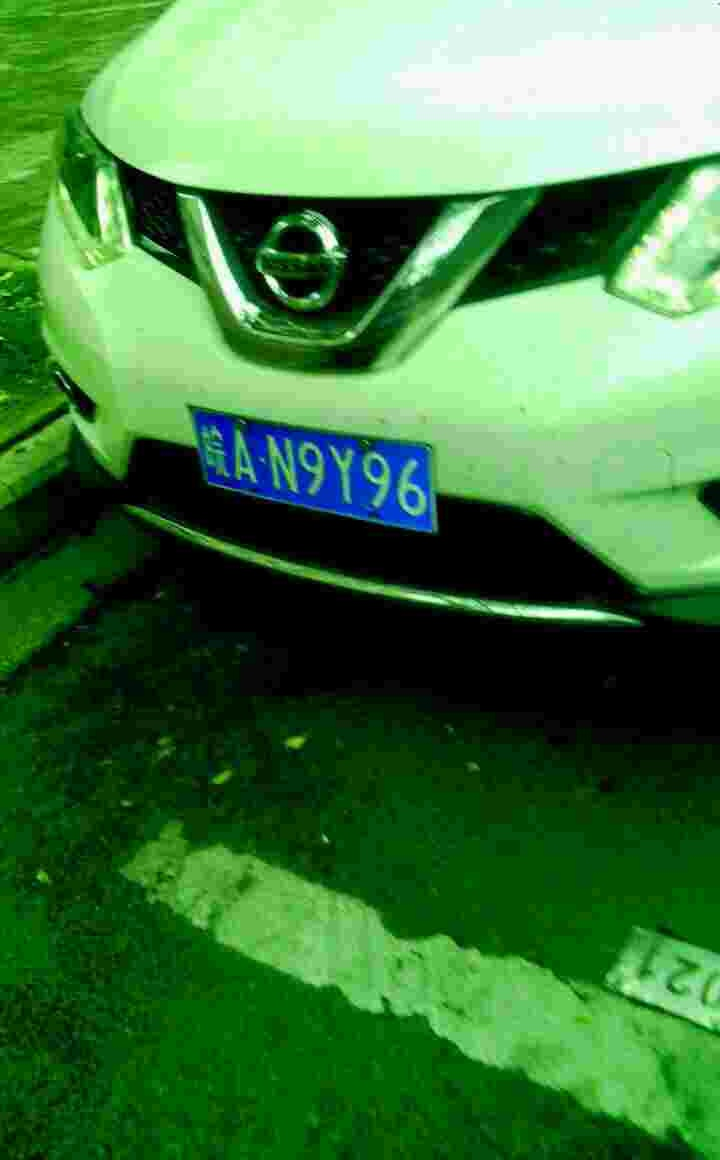license_plate: (197, 412, 438, 519)
